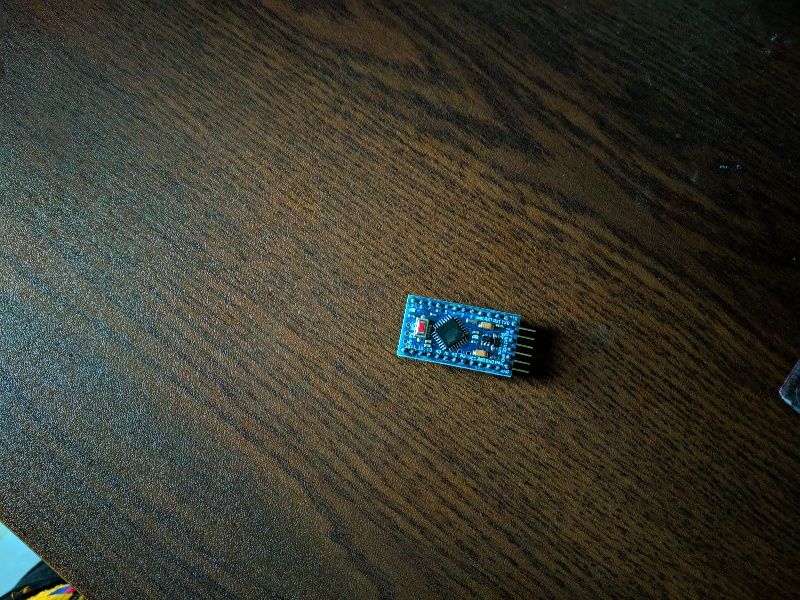Arduino Pro Mini: (389, 288, 526, 390)
